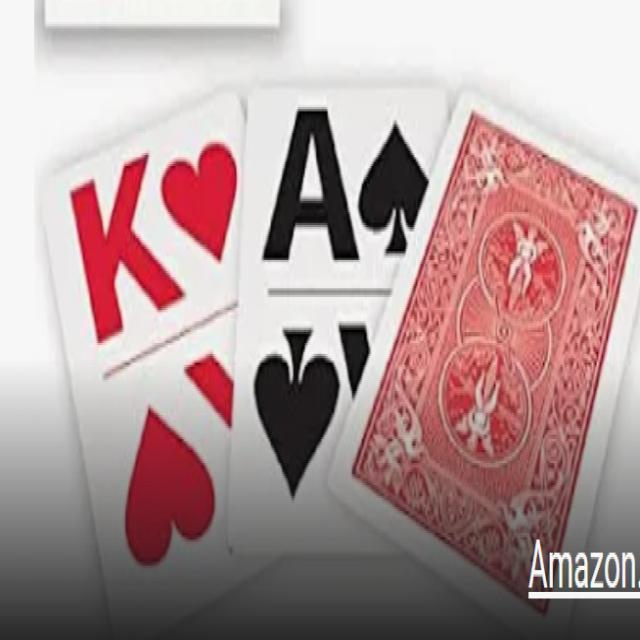Card-A: (229, 89, 449, 545)
Card-K: (42, 89, 269, 634)
